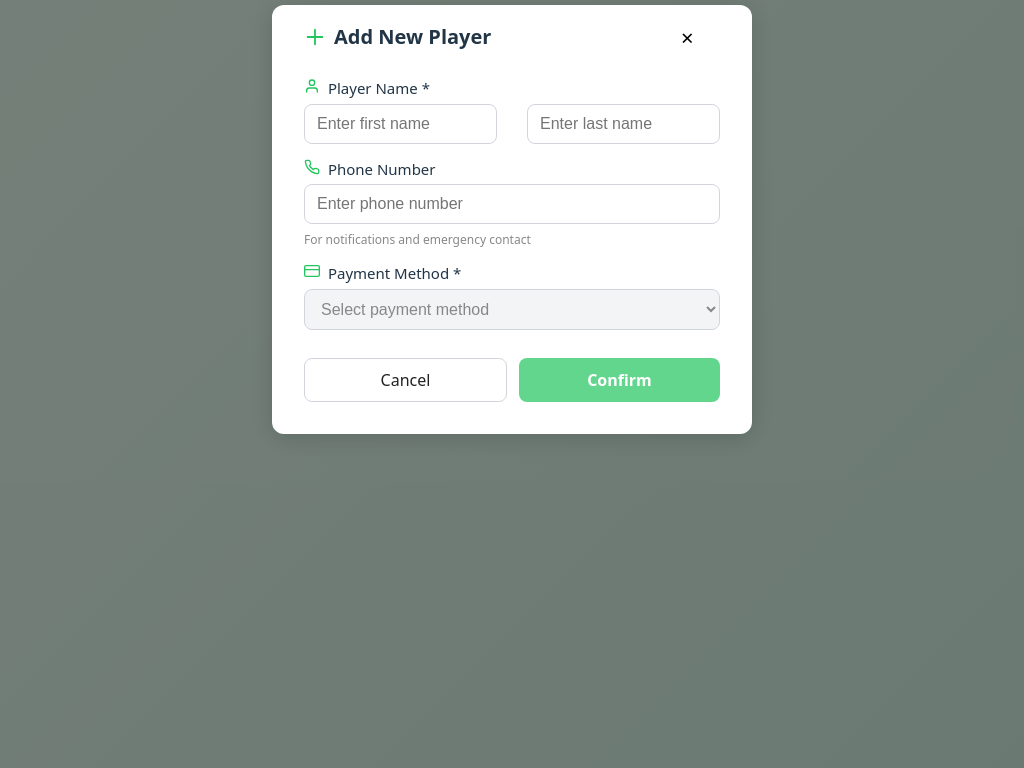
AddPlayerModal Cancel Confirmation › should show confirmation when X button is clicked with filled fields
Note: Fill in a field
In the field with placeholder "Enter first name": (400,124) [304,104,497,144], type "John"
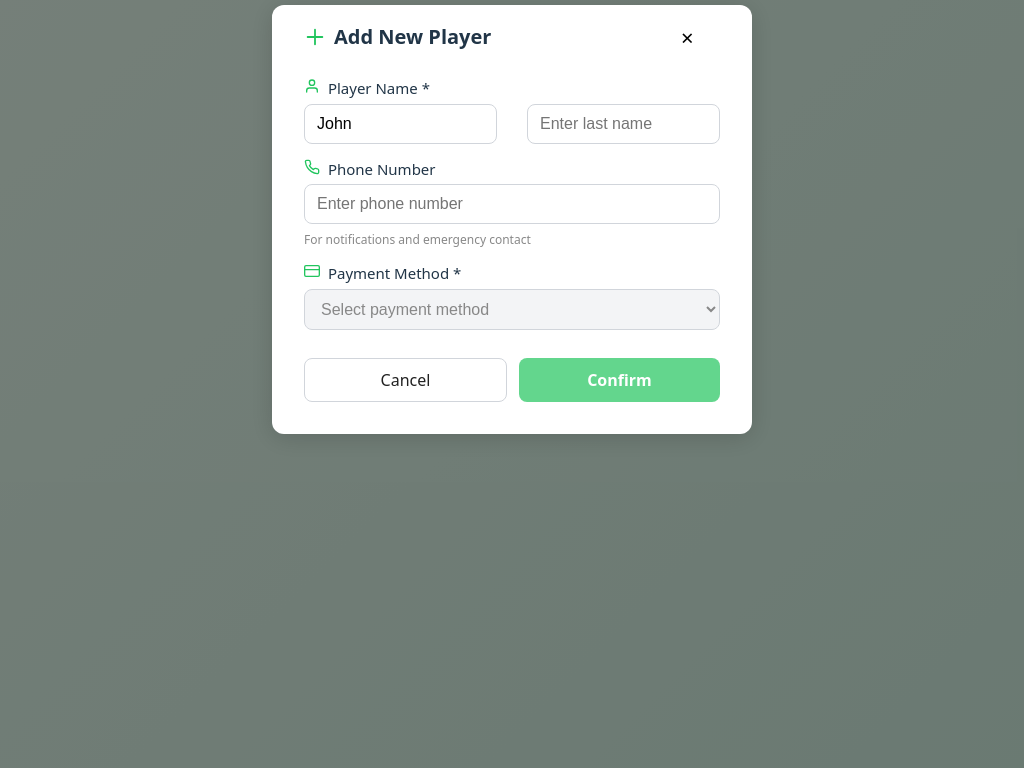
Note: Click X button
Click the button named "Close": (687,37) [655,9,720,65]
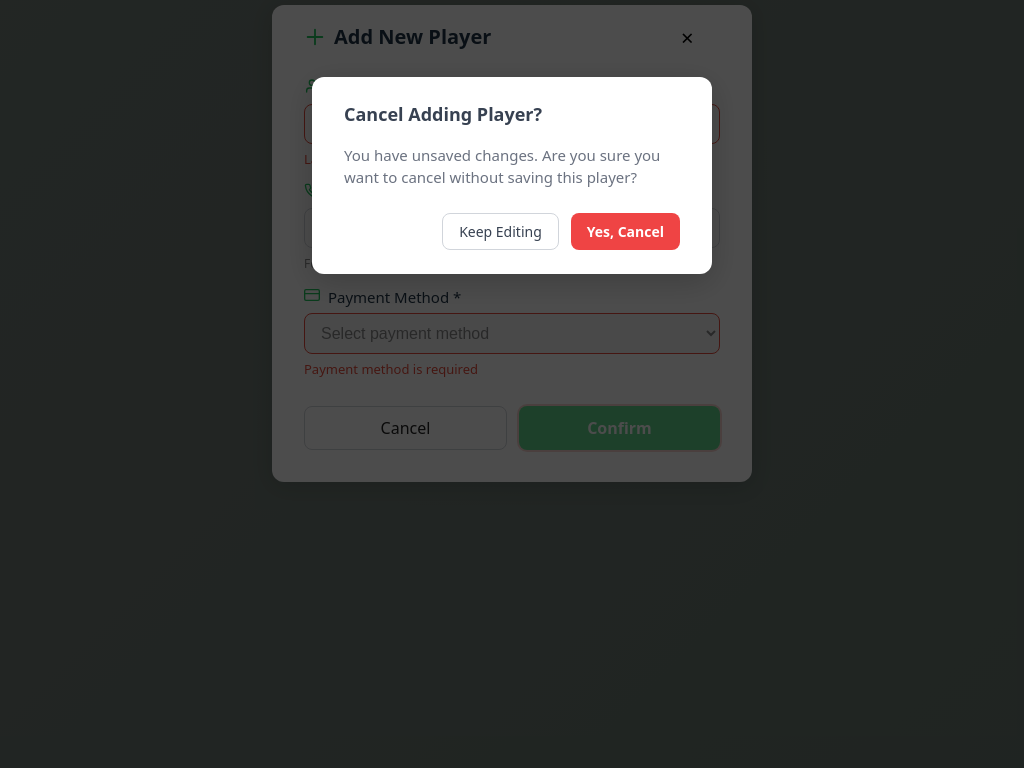
expect the heading "Cancel Adding Player?" is shown: met, box [344,102,542,126]
